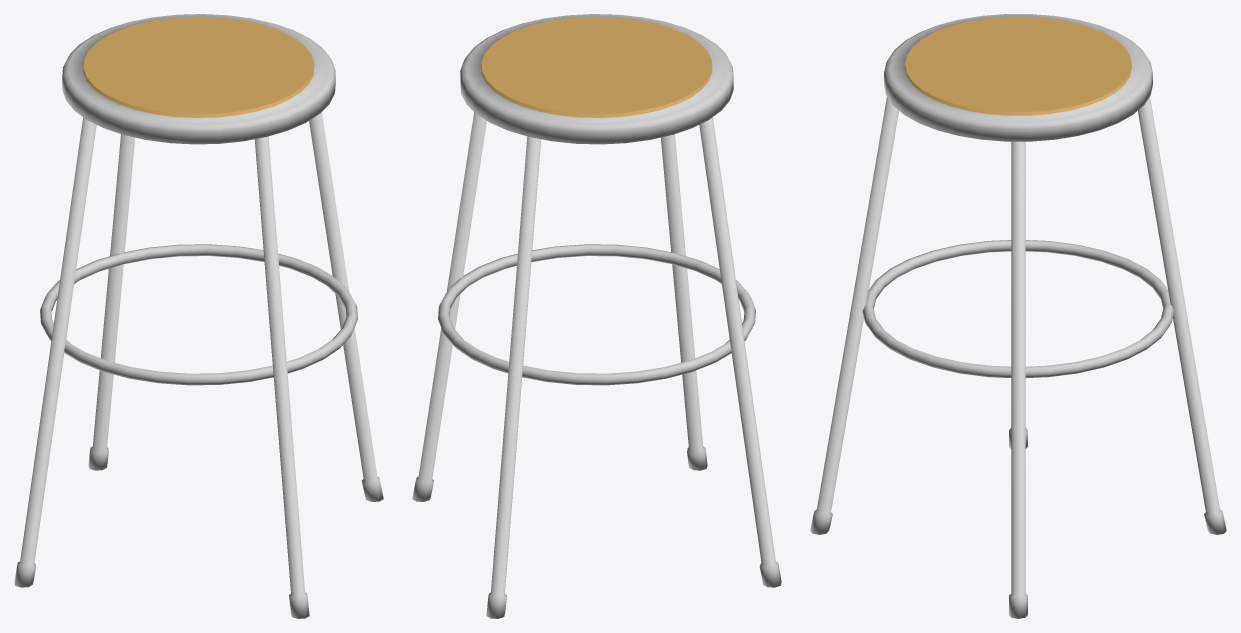
Rendered from zidle.fbx.
3 views of the same model, side by side, from view 1: azimuth 30°, elevation 25°; view 2: azimuth 150°, elevation 25°; view 3: azimuth 270°, elevation 25° (orthographic).
Visible parts, largest first — view 1: zidle; view 2: zidle; view 3: zidle.
Part boxes in pixels (left/top/right/bottom): zidle: left=14, top=14, right=383, bottom=618; zidle: left=412, top=14, right=781, bottom=618; zidle: left=810, top=14, right=1226, bottom=618.
Size of the model in its own units: 38.06 by 47.04 by 38.06.
